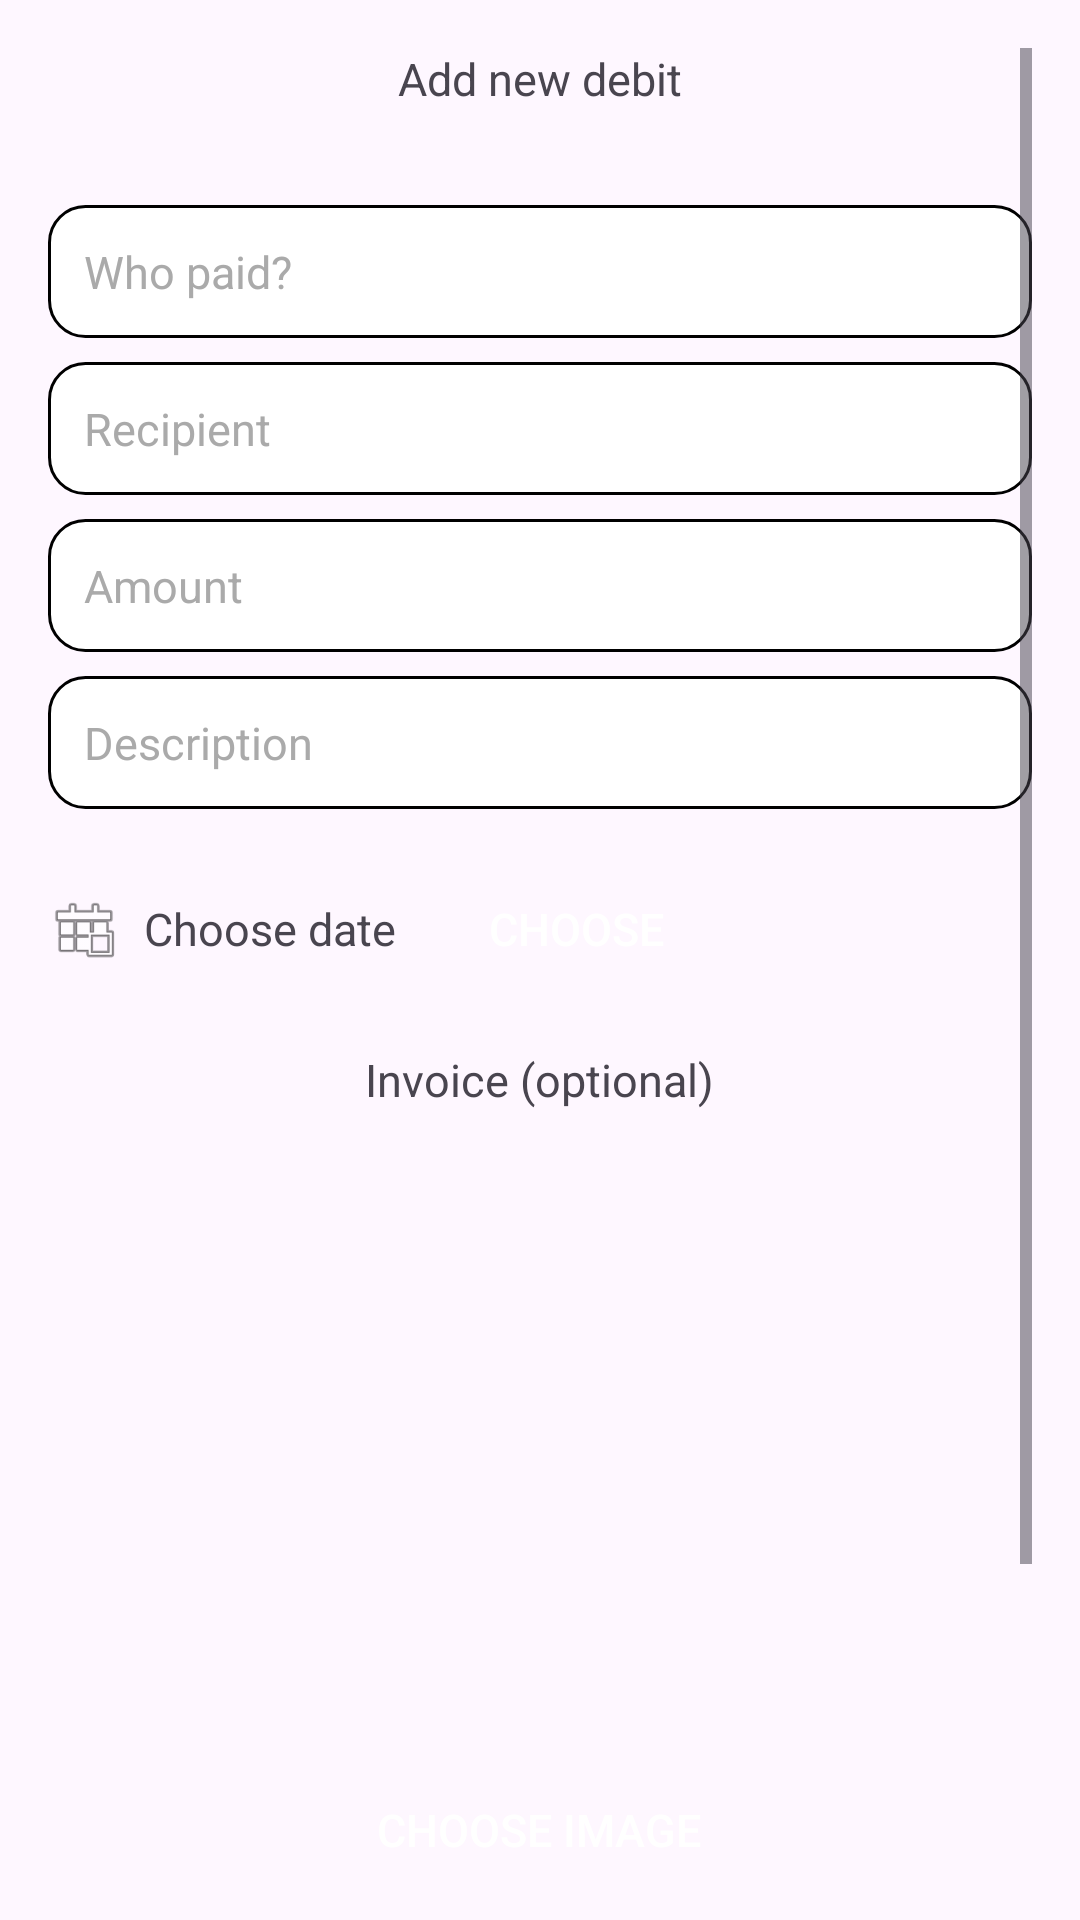

Icon click points for this 1080x1920 phone screenshot, format [x,y]:
today: [84,930]
